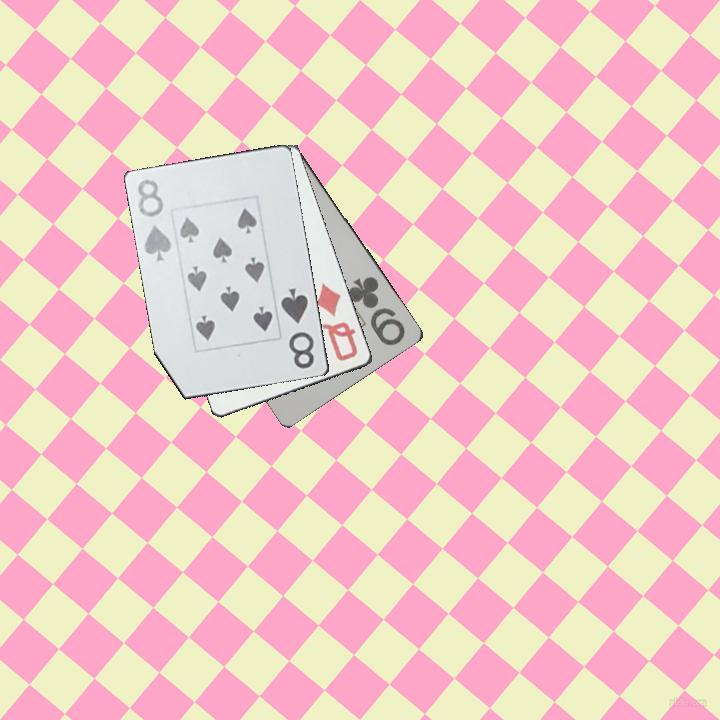8s: (135, 175, 175, 264), (278, 285, 318, 372)
9c: (345, 273, 409, 349)
Qd: (313, 280, 361, 364)
